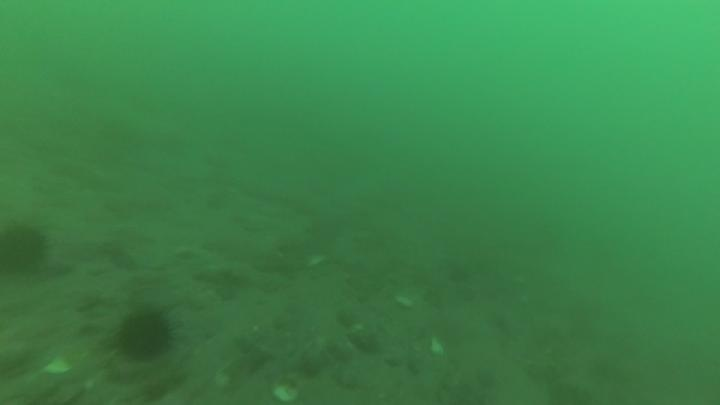echinus: (112, 306, 178, 365), (1, 220, 50, 278)
